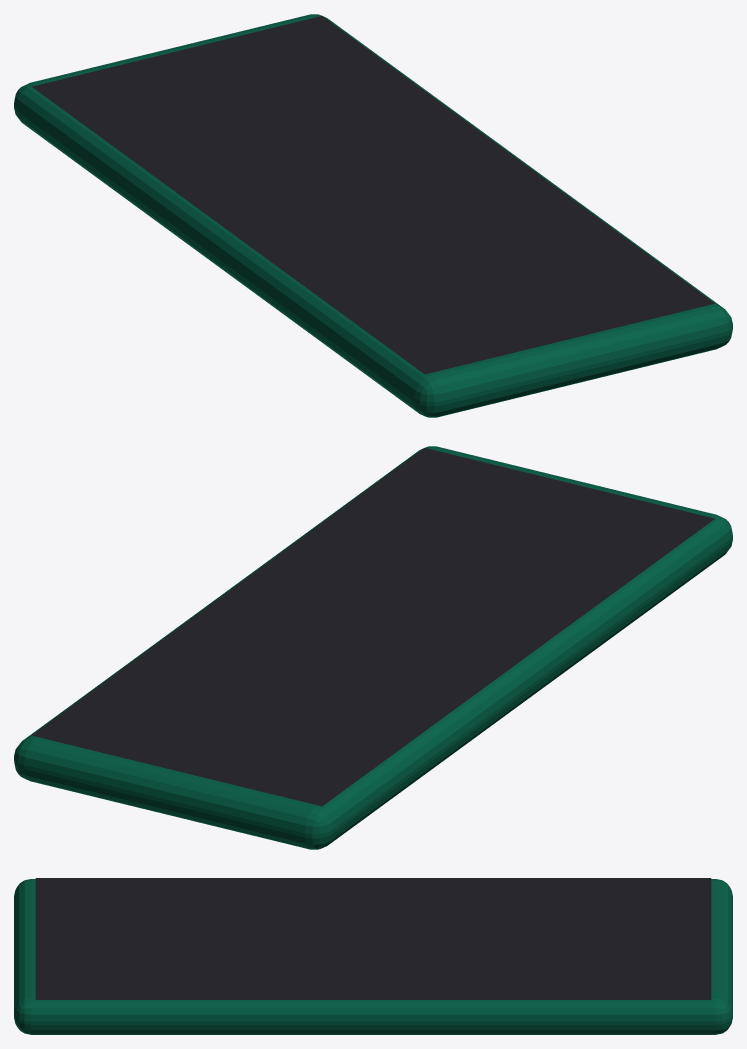
The model's file is xiaomi-redmi-model-110-mid-range-2021.glb.
3 renders of one model, top to bottom at view 1: azimuth 30°, elevation 25°; view 2: azimuth 150°, elevation 25°; view 3: azimuth 270°, elevation 25°, orthographic. The views are drawn at different scales.
Visible parts, largest first — view 1: Phone_Screen, Phone_Body; view 2: Phone_Screen, Phone_Body; view 3: Phone_Screen, Phone_Body.
Boxes of the visible parts, x1,y1,x2,y2 form: Phone_Screen: [32, 16, 714, 374]; Phone_Body: [14, 14, 732, 417]; Phone_Screen: [32, 448, 714, 806]; Phone_Body: [14, 446, 732, 849]; Phone_Screen: [35, 878, 711, 999]; Phone_Body: [14, 879, 732, 1034].
Bounding box in the file's own units: 0.0705 × 0.0088 × 0.1617.
